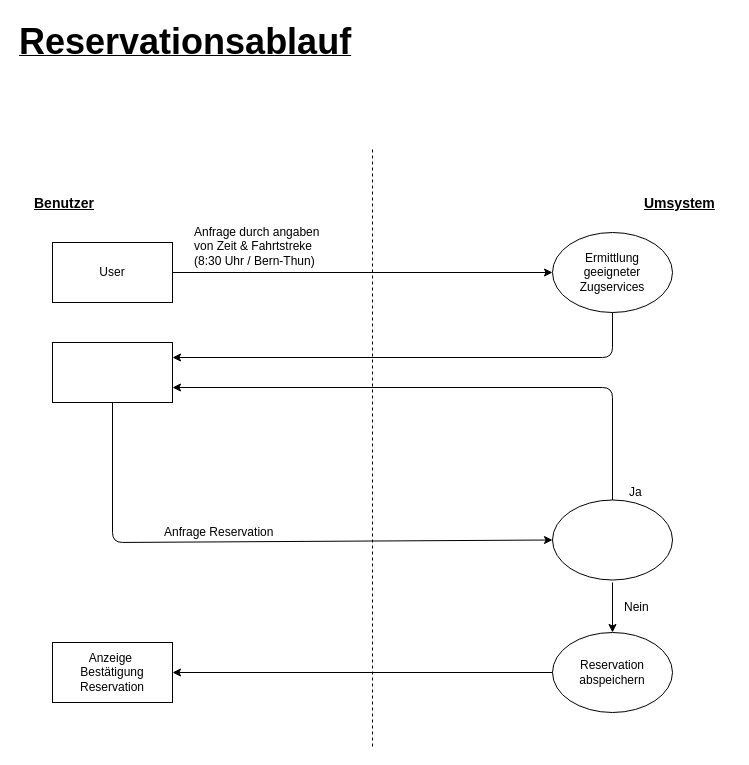
The diagram is 749 pixels wide and 765 high, and some of its shapes have lost their labels. The centre of each missing label's shape, as x and y in pixels:
Anzeige Abfahrtszeiten & verfügbare Sitzplätze: point (112, 372)
Sitzplatz wurde in der Zwischenzeit reserviert: point (612, 539)
